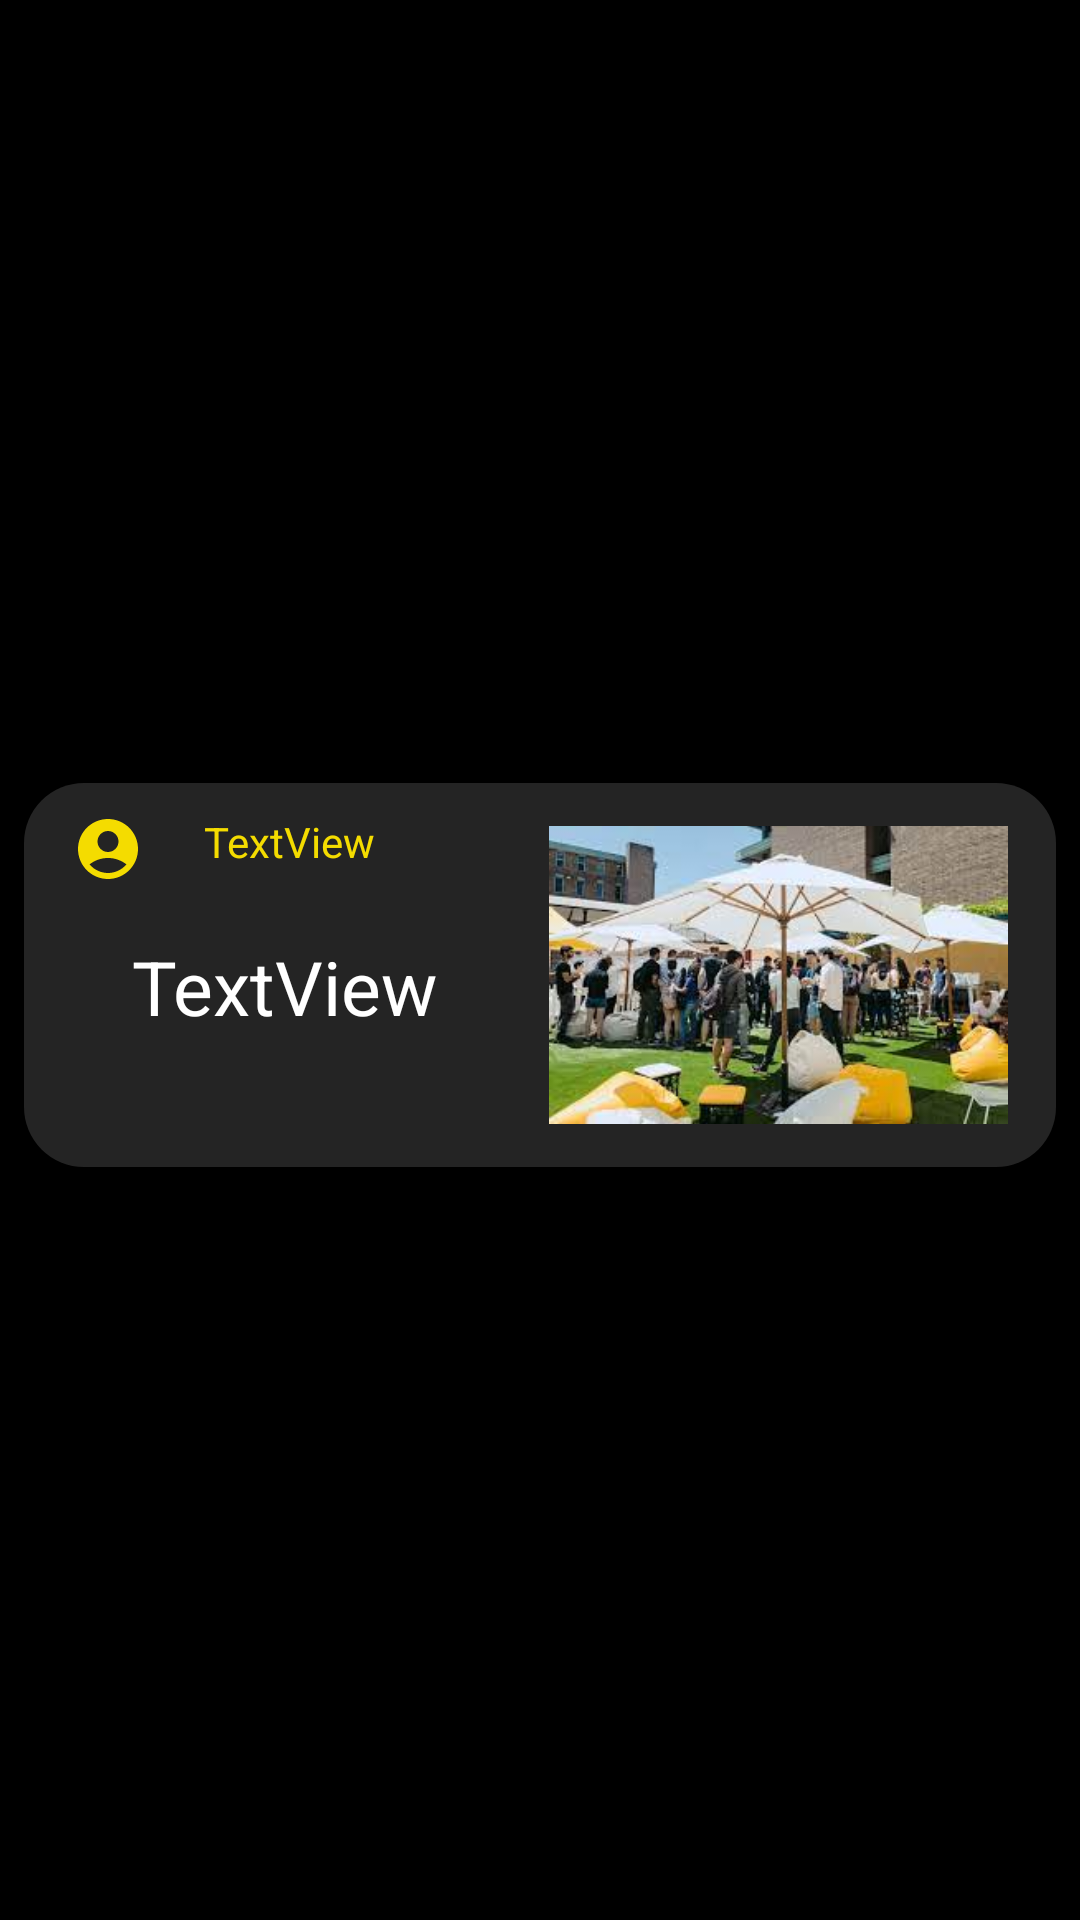

Named icons in this screenshot (1080px x 1920px) and their centers, (x=x, y=y):
account circle: (x=108, y=849)
